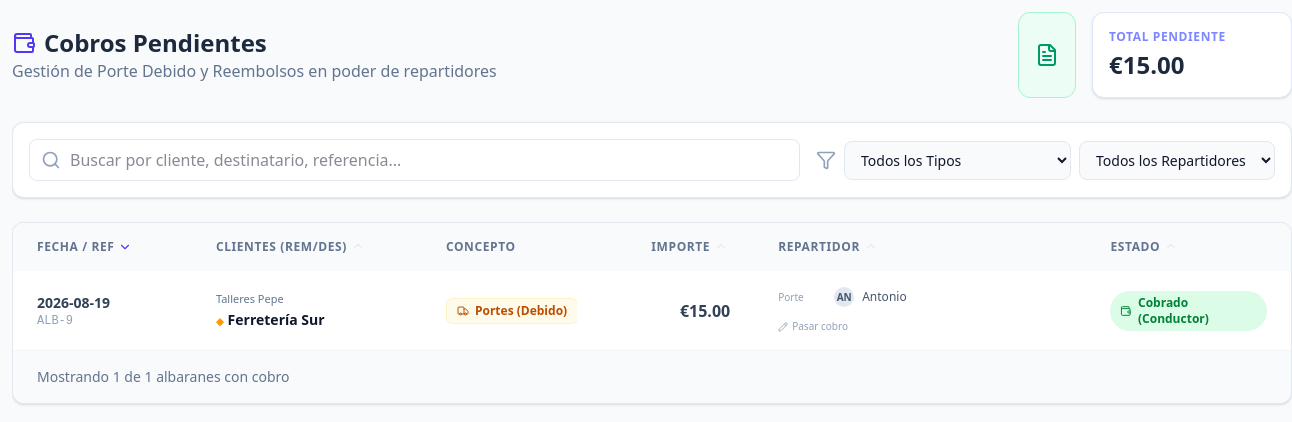
Test: PendingCollections · traspasar el cobro › al abrir el desplegable viene marcado quien lleva el cobro ahora
This screenshot has width=1292, height=422.
What coordinates should you click on to do the following:
click the button "Pasar cobro"
I would click on:
 (813, 326)
Its box is [778,319,848,334].
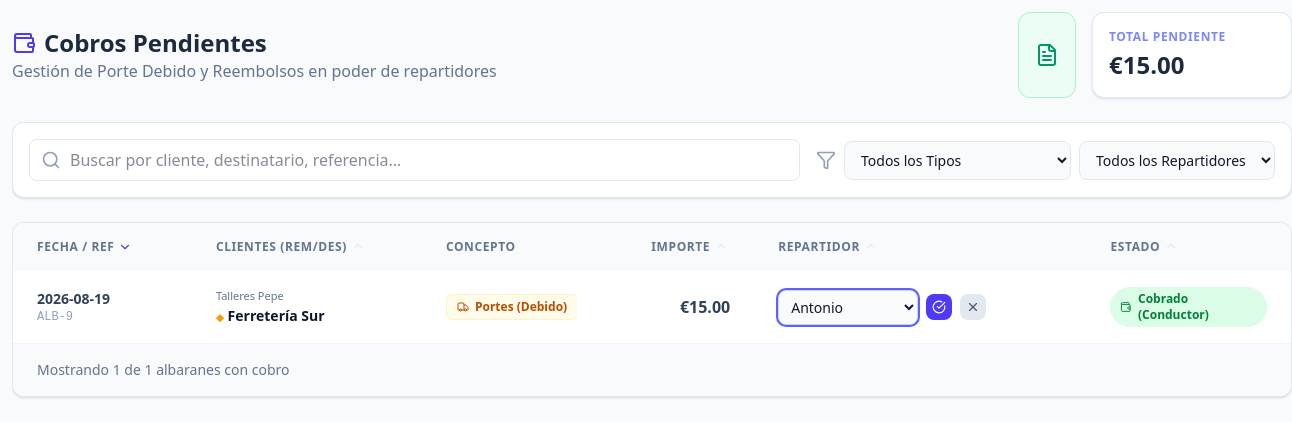
Now the dropdown named "se queda el cobro" shows "Antonio", box [778,290,918,324]
